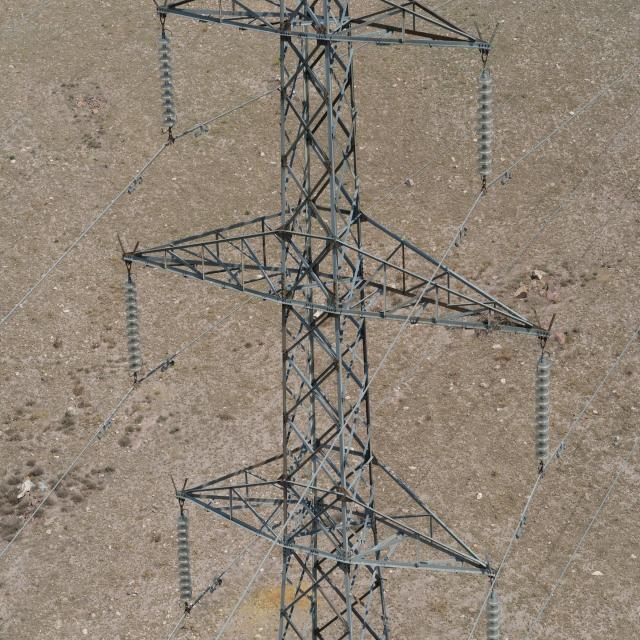direk: (157, 4, 487, 640)
